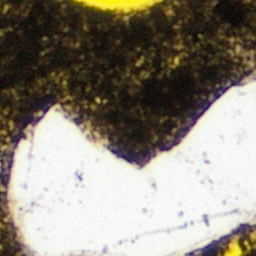air_pores: (73, 0, 160, 13)
cement_matrix: (0, 0, 255, 255), (184, 221, 255, 255)
cracks: (222, 238, 242, 255), (253, 228, 255, 242)
gravel_crushed_stones: (10, 80, 255, 255)
